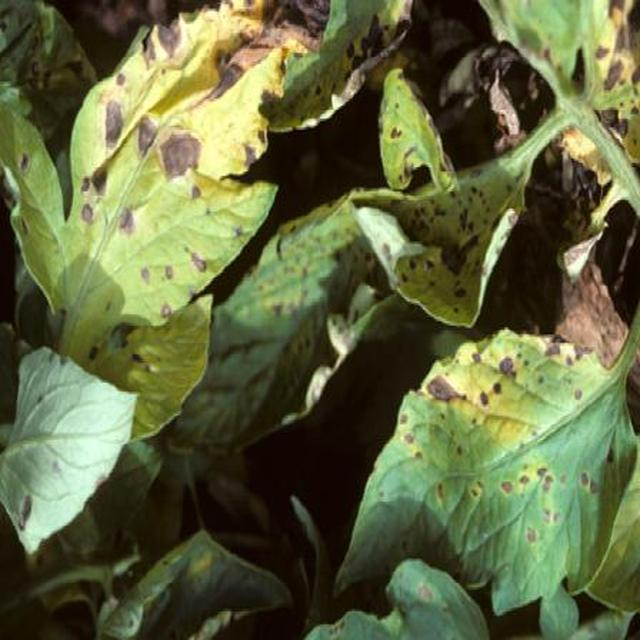Septoria Leaf: (232, 260, 640, 640)
